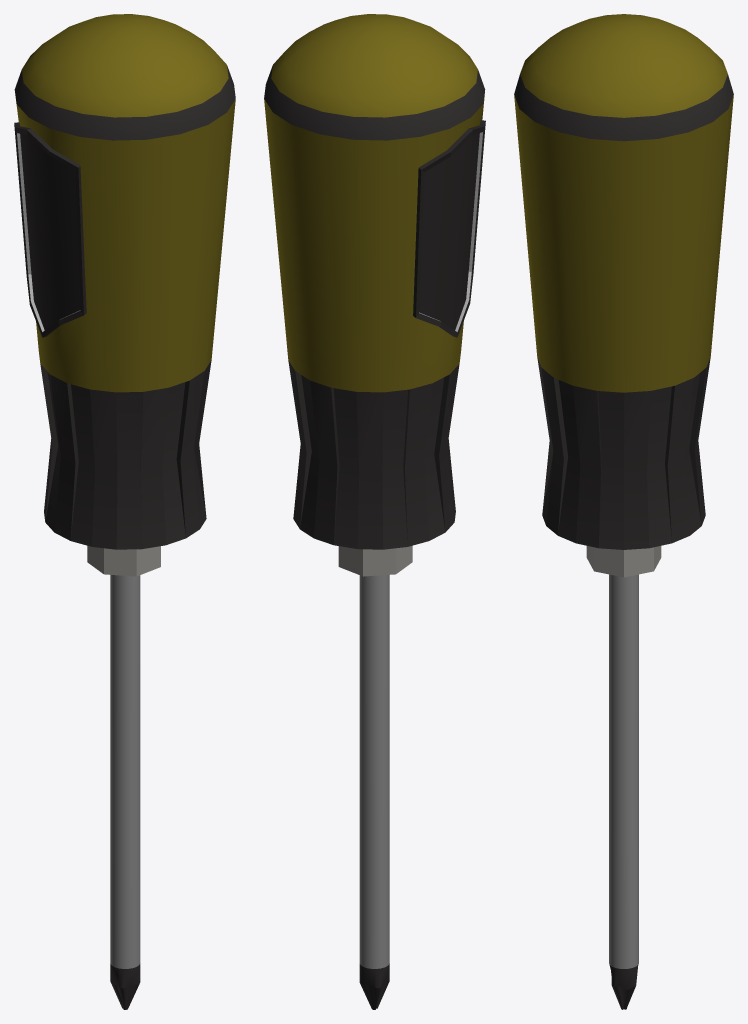
The model's file is Screwdriver.fbx.
3 renders of one model, left to right at view 1: azimuth 30°, elevation 25°; view 2: azimuth 150°, elevation 25°; view 3: azimuth 270°, elevation 25°, orthographic.
Parts seen in each view (by area): view 1: pCylinder4; view 2: pCylinder4; view 3: pCylinder4.
Part boxes in pixels (x1=…): pCylinder4: x1=14, y1=14, x2=235, y2=1009; pCylinder4: x1=264, y1=14, x2=485, y2=1009; pCylinder4: x1=514, y1=14, x2=733, y2=1009.
Bounding box in the file's own units: 1.95 × 9.4 × 1.91.
